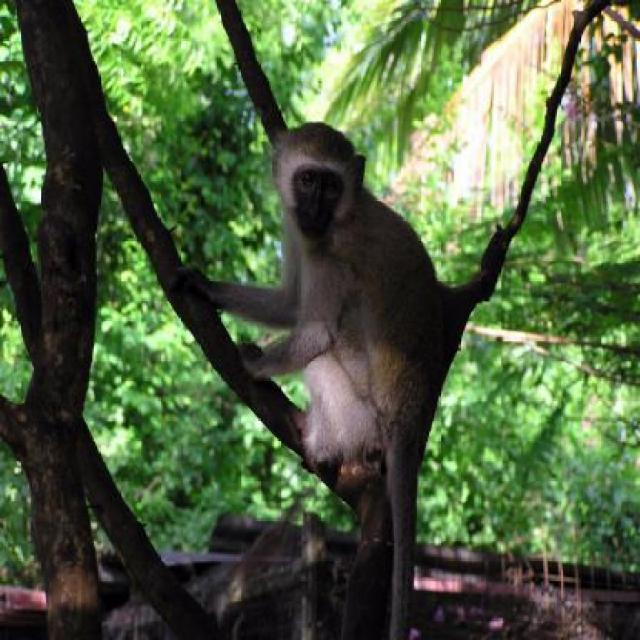Monkey: (199, 137, 495, 591)
